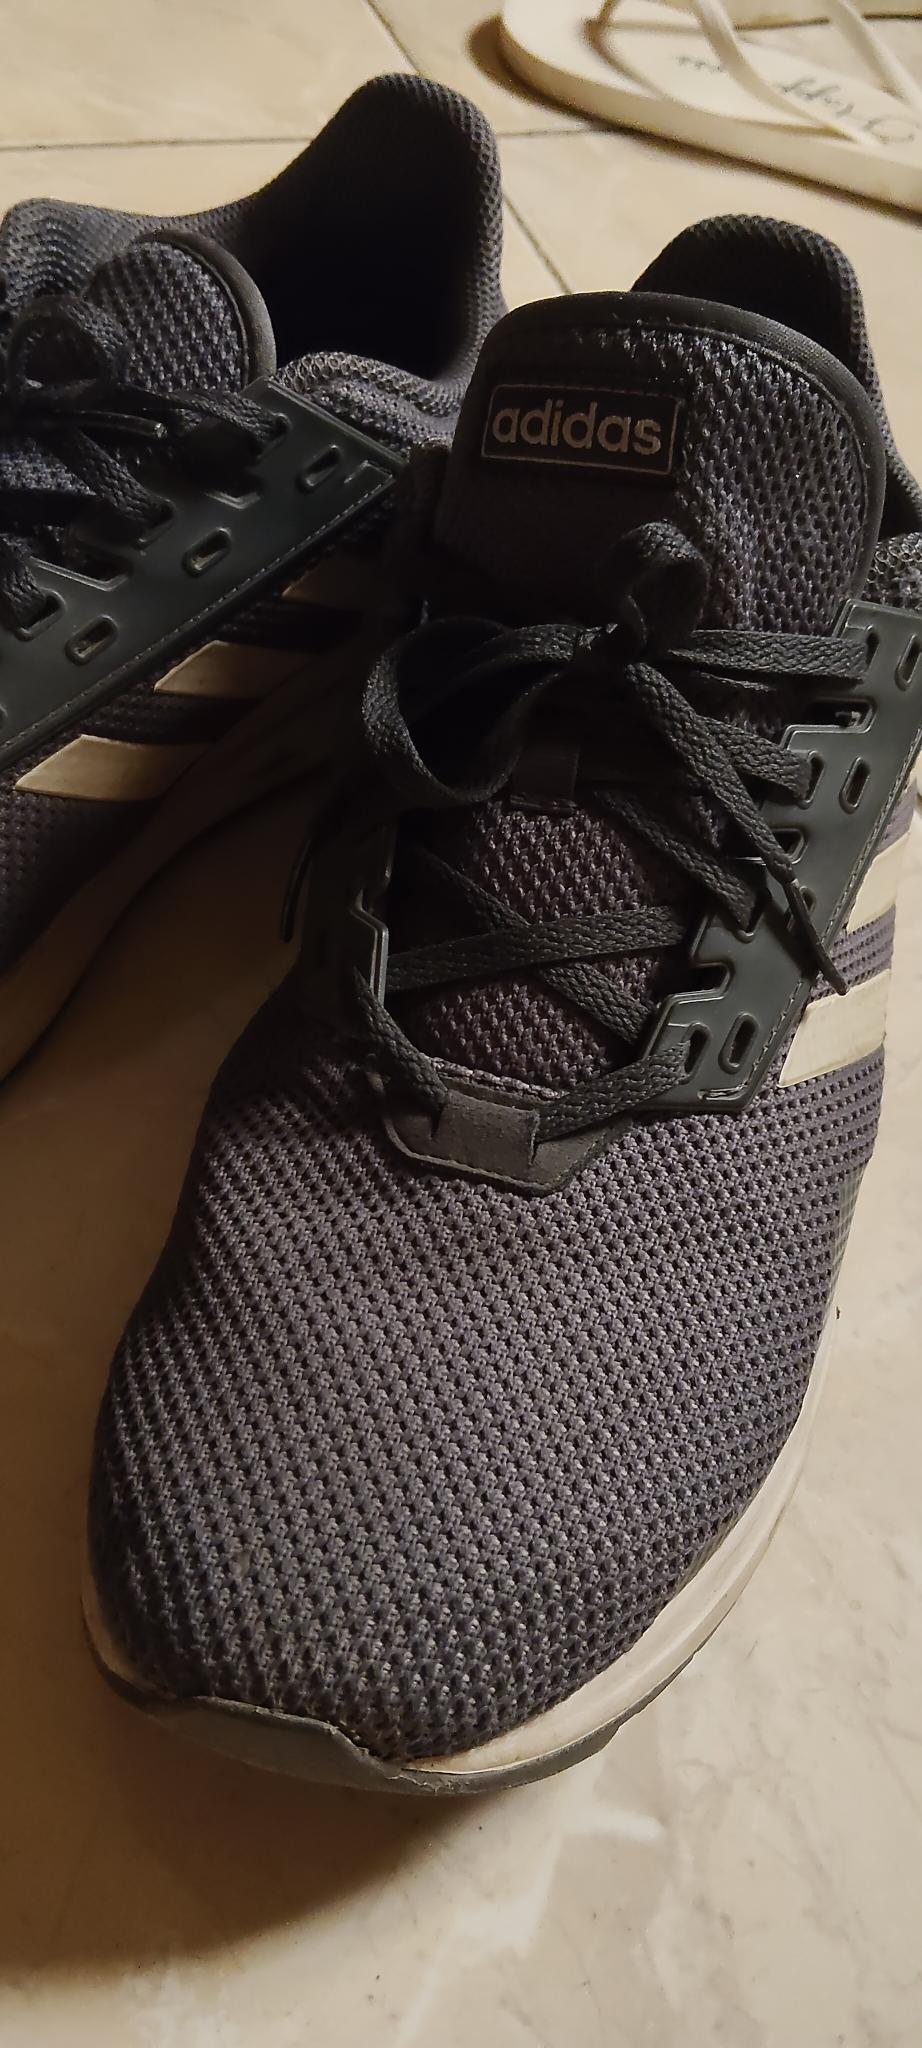Shoes: (80, 215, 922, 1792), (0, 82, 510, 1102)
